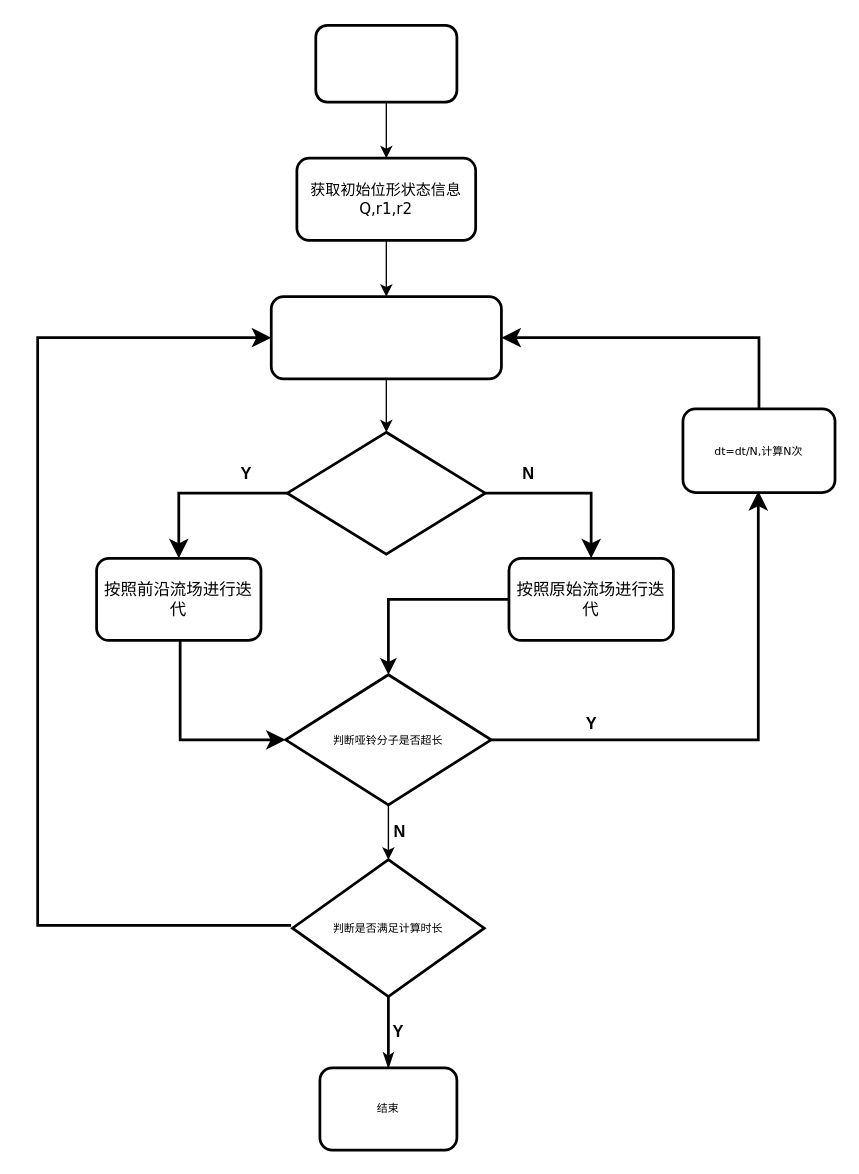
The diagram is 859 pixels wide and 1174 high, and some of its shapes have lost their labels. Each missing label, with the centre of its shape:
"开始" belongs at [386,63].
"是否为前沿区哑铃分子" belongs at [385,492].
"计算Q(t+dt),r1(t+dt),r2(t+dt)" belongs at [385,337].
